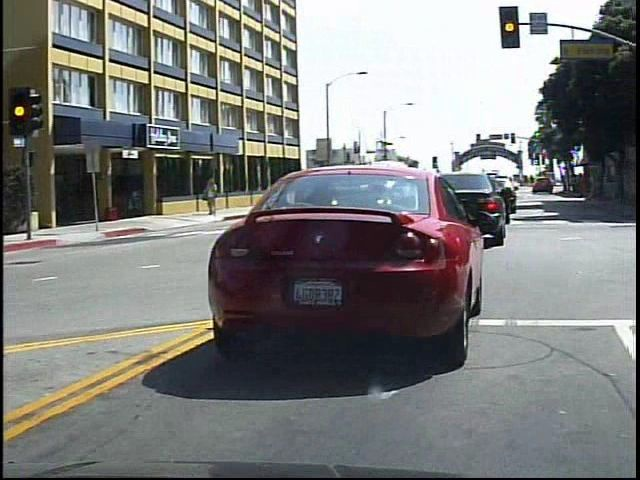person: (205, 174, 224, 218)
